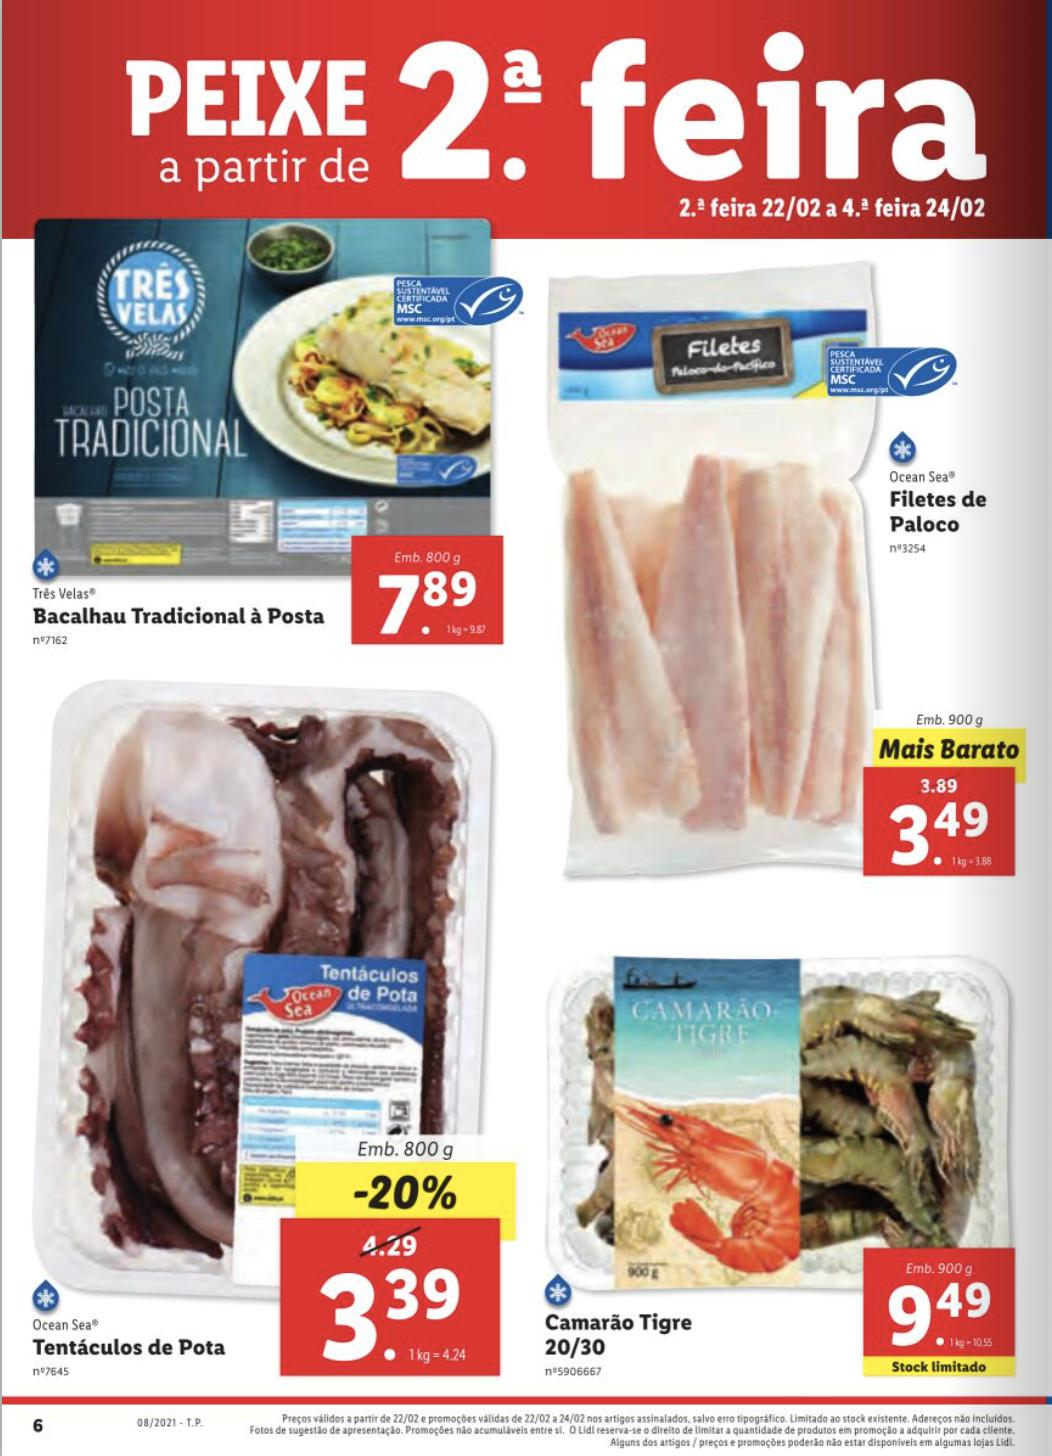name: (26, 600, 333, 631), (540, 1312, 699, 1362), (884, 482, 1000, 536), (26, 1334, 233, 1360)
price: (318, 1263, 473, 1372), (878, 1271, 1011, 1358), (360, 565, 506, 643), (873, 796, 1011, 876)
product: (15, 671, 522, 1376), (527, 203, 1038, 891), (531, 927, 1042, 1378), (15, 203, 527, 649)
promotion: (344, 1169, 471, 1216)
